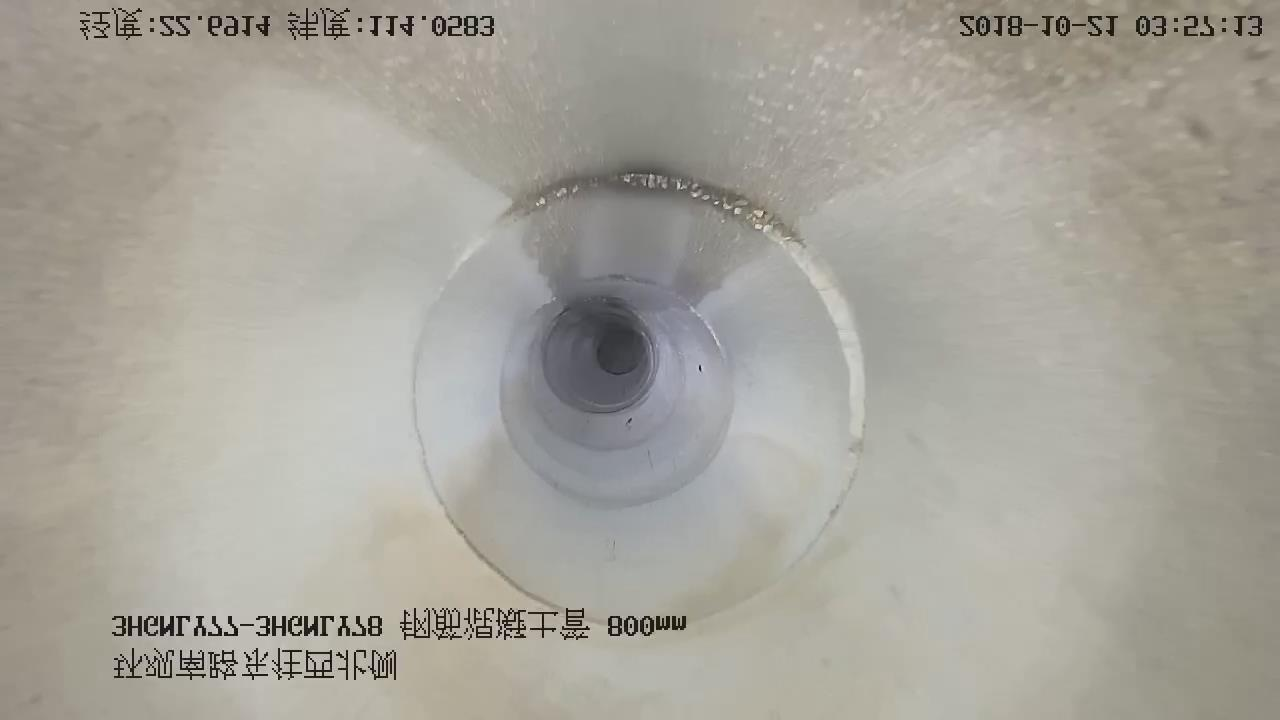CKTJ: (714, 193, 864, 458), (620, 173, 715, 200)
